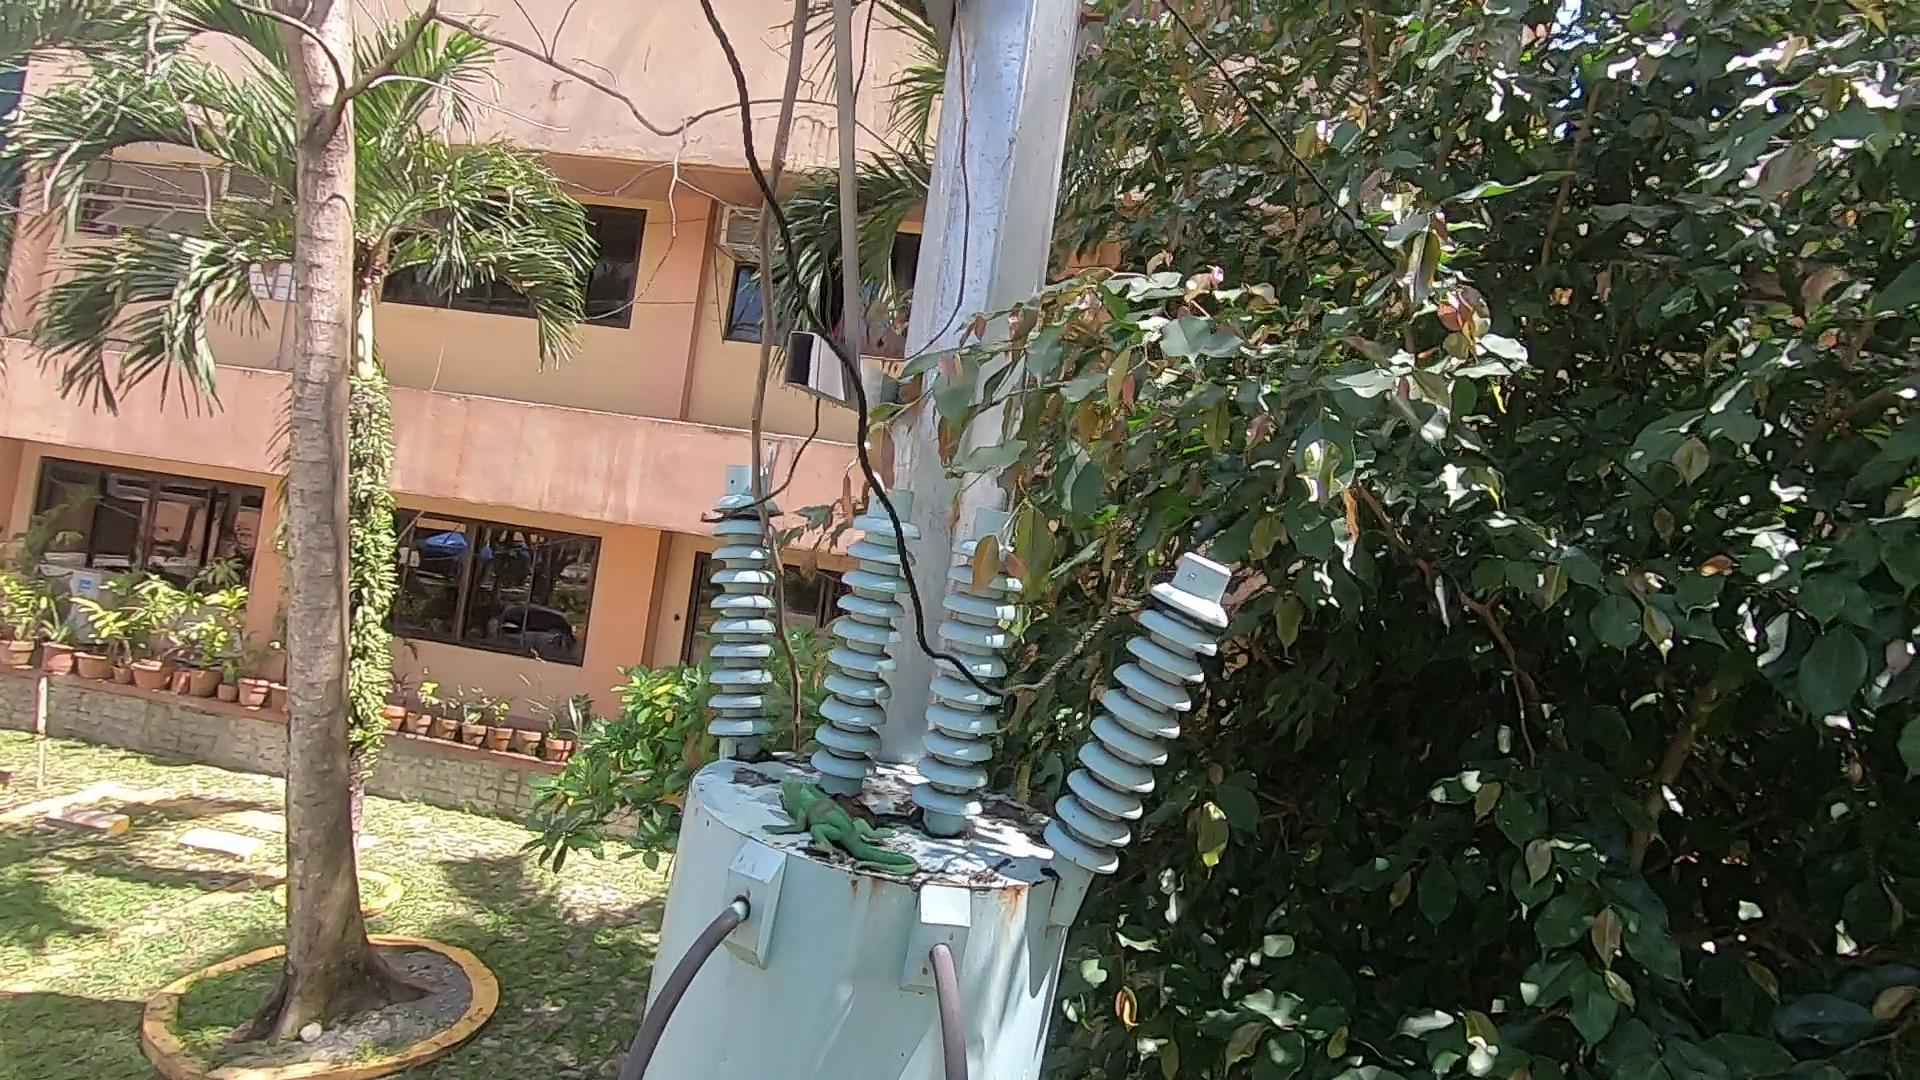branch with leaves: (856, 375, 1095, 591)
leaf: (845, 785, 936, 832), (975, 791, 1060, 839), (727, 738, 775, 771)
tree branch: (736, 7, 852, 741)
